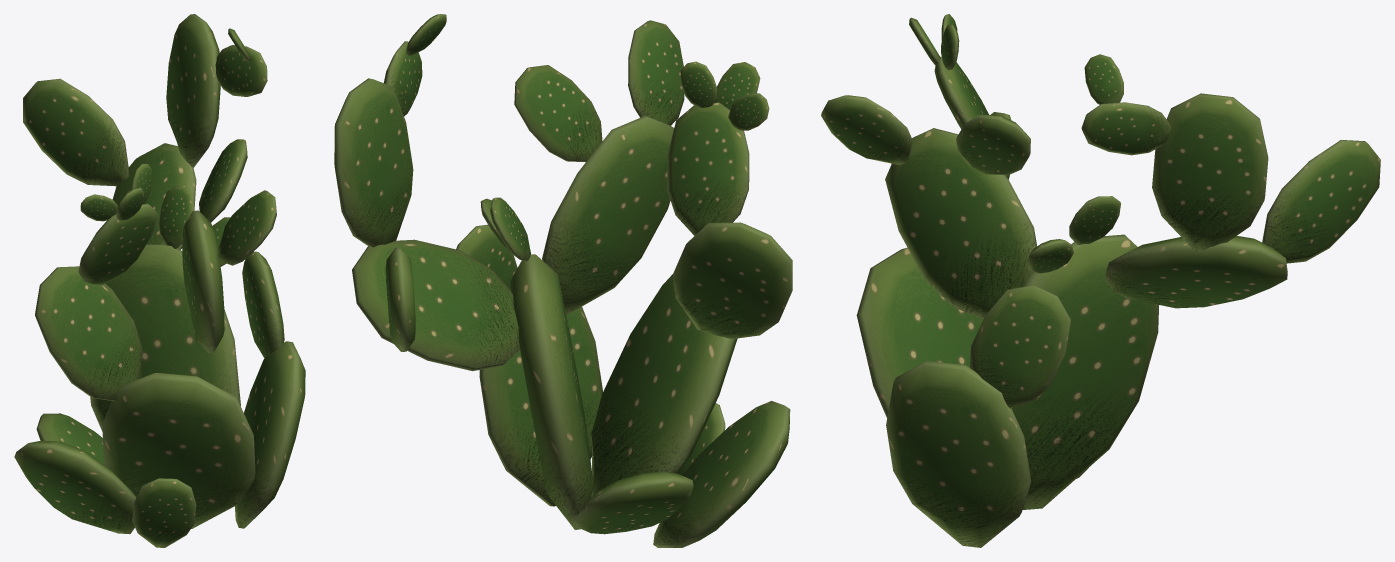
Rendered from Cactus.fbx.
3 views of the same model, side by side, from view 1: azimuth 30°, elevation 25°; view 2: azimuth 150°, elevation 25°; view 3: azimuth 270°, elevation 25° (orthographic). The views are drawn at different scales.
Visible parts, largest first — view 1: Cactus; view 2: Cactus; view 3: Cactus.
Part boxes in pixels (x1,y1,x2,y2): Cactus: (14,14,305,547); Cactus: (334,14,792,547); Cactus: (821,14,1380,547).
Size of the model in its own units: 330 by 496 by 486.
